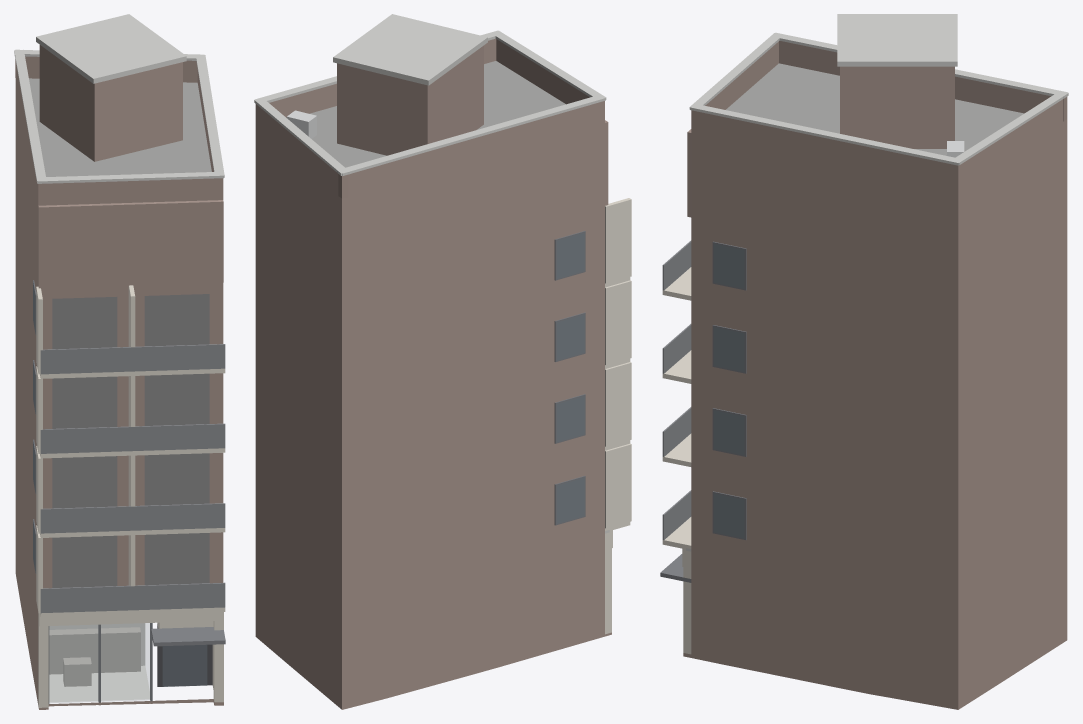
The model's file is d28-w136730028-inferred.glb.
3 renders of one model, left to right at view 1: azimuth 30°, elevation 25°; view 2: azimuth 150°, elevation 25°; view 3: azimuth 270°, elevation 25°, orthographic. The views are drawn at different scales.
Visible parts, largest first — view 1: INFERRED_D28_exact_wall_0, INFERRED_facade.001, INFERRED_D28_exact_wall_4, INFERRED_D28_exact_wall_5, INFERRED_ground.001, INFERRED_roof.001, INFERRED_D28_exact_interior_2, INFERRED_D28_exact_wall_1, INFERRED_body.001; view 2: INFERRED_D28_exact_wall_0, INFERRED_D28_exact_wall_5, INFERRED_D28_exact_wall_4, INFERRED_D28_exact_wall_1, INFERRED_roof.001, INFERRED_body.001; view 3: INFERRED_D28_exact_wall_0, INFERRED_D28_exact_wall_5, INFERRED_roof.001, INFERRED_D28_exact_wall_1, INFERRED_body.001, INFERRED_facade.001, INFERRED_D28_exact_wall_4.
Part boxes in pixels (x1,y1,x2,y2): INFERRED_D28_exact_wall_0: (15,45,223,709); INFERRED_facade.001: (40,294,225,613); INFERRED_D28_exact_wall_4: (36,285,225,707); INFERRED_D28_exact_wall_5: (14,14,224,183); INFERRED_ground.001: (49,623,207,703); INFERRED_roof.001: (29,78,211,176); INFERRED_D28_exact_interior_2: (49,623,149,702); INFERRED_D28_exact_wall_1: (33,280,225,703); INFERRED_body.001: (33,283,35,569); INFERRED_D28_exact_wall_0: (255,38,611,709); INFERRED_D28_exact_wall_5: (254,14,609,533); INFERRED_D28_exact_wall_4: (605,198,631,634); INFERRED_D28_exact_wall_1: (554,231,585,525); INFERRED_roof.001: (286,61,565,167); INFERRED_body.001: (556,233,584,523); INFERRED_D28_exact_wall_0: (683,40,1067,709); INFERRED_D28_exact_wall_5: (686,14,1068,551); INFERRED_roof.001: (726,63,1024,157); INFERRED_D28_exact_wall_1: (660,241,746,582); INFERRED_body.001: (714,244,744,538); INFERRED_facade.001: (662,240,691,539); INFERRED_D28_exact_wall_4: (662,267,691,654).
Size of the model in its own units: 11.25 by 23.59 by 14.24.
